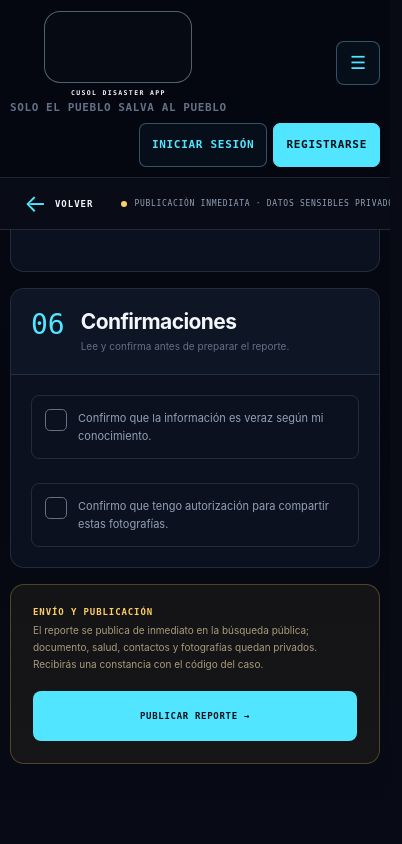
Test: Reporte de persona perdida › impide publicar un formulario incompleto
(page scrolled)
Click the button "PUBLICAR REPORTE →": (195, 716) [33,691,357,741]
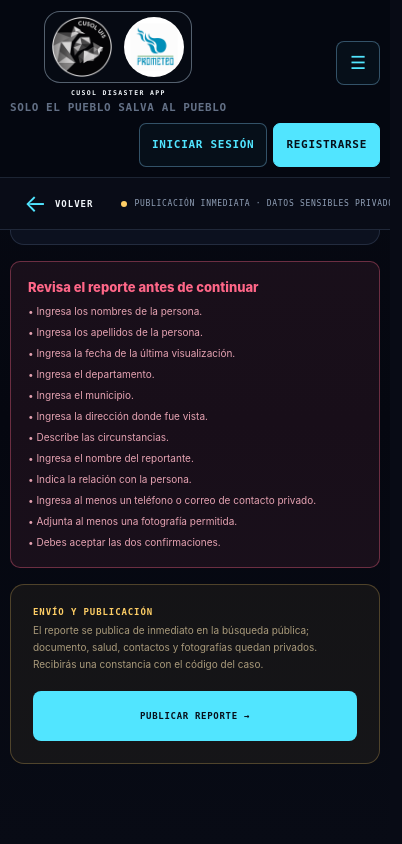
Now the text "Revisa el reporte antes de continuar" is shown, box [28,279,259,295]
Now the text "• Ingresa los nombres de la persona." is shown, box [28,305,202,317]
Now the text "• Adjunta al menos una fotografía permitida." is shown, box [28,515,237,527]
